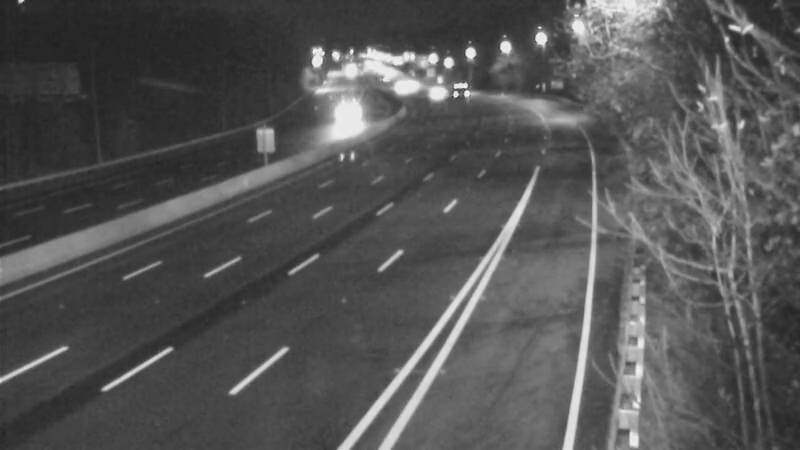vehicle: (374, 65, 424, 115), (432, 65, 482, 115), (408, 71, 458, 121), (324, 92, 374, 142)
